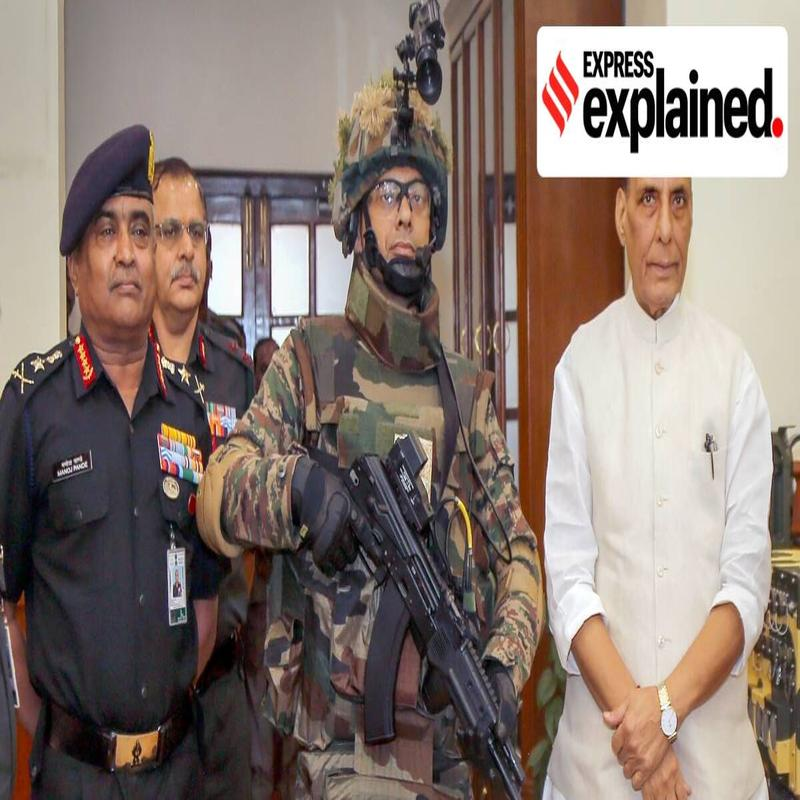GUN: (302, 402, 530, 800)
